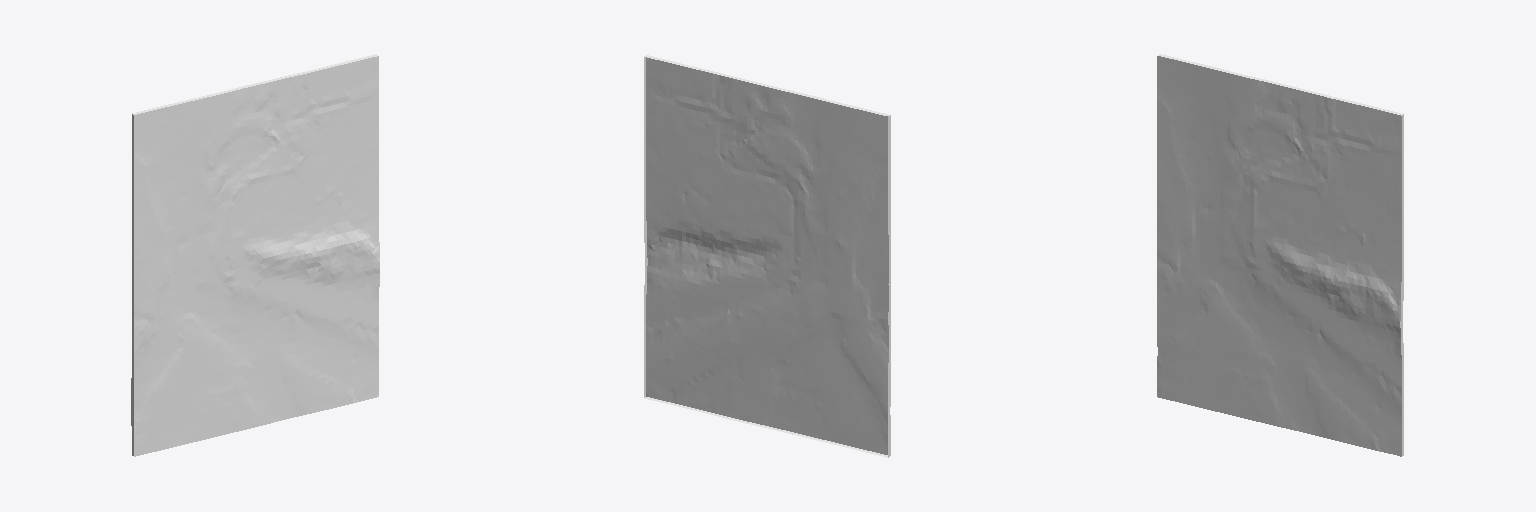
The model's file is saida5.obj.
The picture shows the model from 3 angles: view 1: azimuth 30°, elevation 25°; view 2: azimuth 150°, elevation 25°; view 3: azimuth 330°, elevation 25°; orthographic projection.
Parts seen in each view (by area): view 1: saida4.osg_PagedLOD_TerrainTile_MatrixTransform__Geometry_0; view 2: saida4.osg_PagedLOD_TerrainTile_MatrixTransform__Geometry_0; view 3: saida4.osg_PagedLOD_TerrainTile_MatrixTransform__Geometry_0.
Boxes of the visible parts, x1,y1,x2,y2 form: saida4.osg_PagedLOD_TerrainTile_MatrixTransform__Geometry_0: [131, 54, 379, 456]; saida4.osg_PagedLOD_TerrainTile_MatrixTransform__Geometry_0: [644, 55, 890, 457]; saida4.osg_PagedLOD_TerrainTile_MatrixTransform__Geometry_0: [1157, 54, 1403, 456].
Size of the model in its own units: 2820 by 3760 by 89.56.